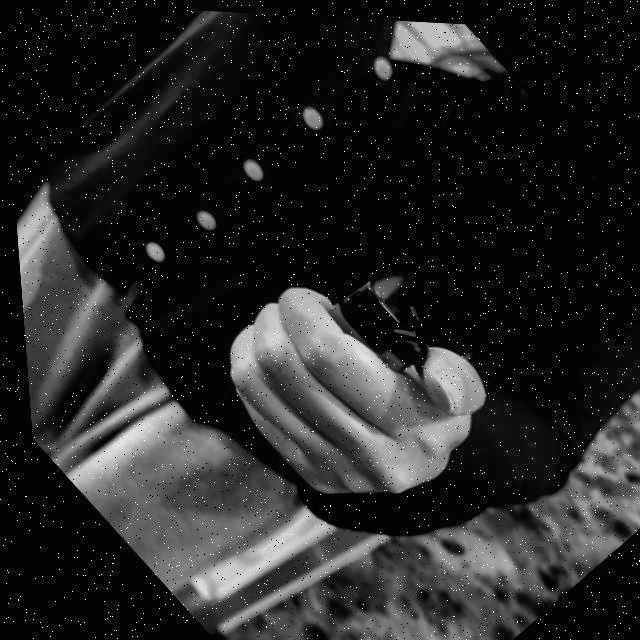Fire: (363, 261, 407, 302)
